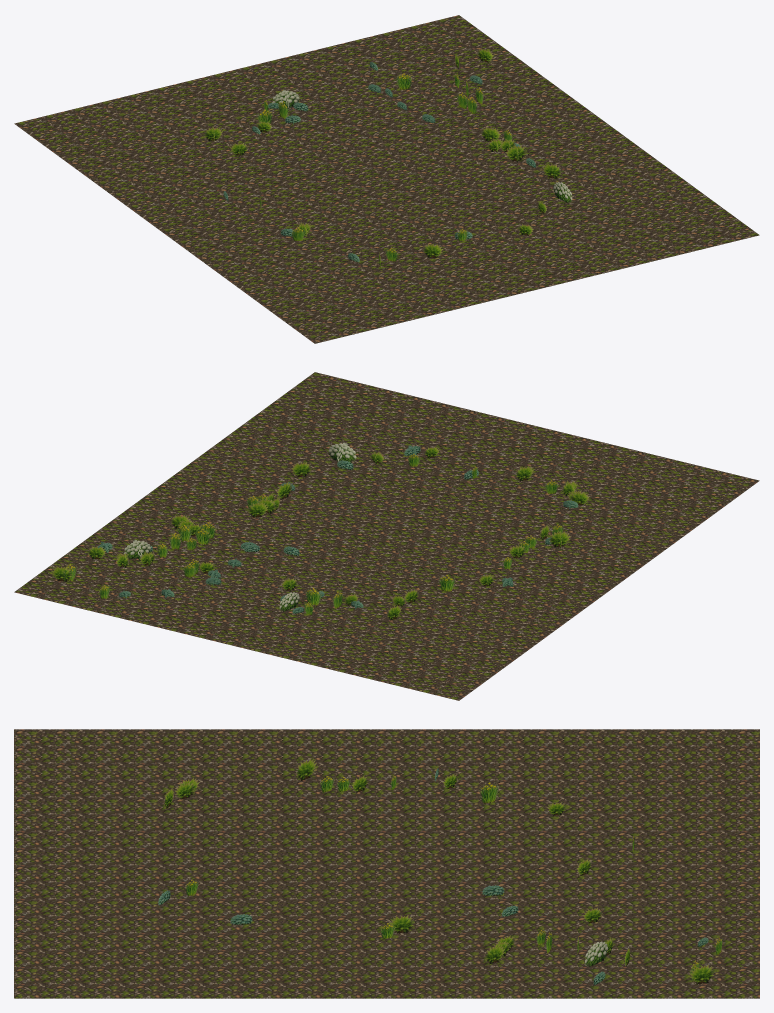
Rendered from groundcover-pond.glb.
3 views of the same model, one above another, from view 1: azimuth 30°, elevation 25°; view 2: azimuth 150°, elevation 25°; view 3: azimuth 270°, elevation 25° (orthographic). The views are drawn at different scales.
Parts seen in each view (by area): view 1: groundcover-soil, groundcover-plants; view 2: groundcover-soil, groundcover-plants; view 3: groundcover-soil, groundcover-plants.
Boxes of the visible parts, x1,y1,x2,y2 form: groundcover-soil: (14, 15, 759, 343); groundcover-plants: (204, 33, 572, 267); groundcover-soil: (14, 372, 759, 700); groundcover-plants: (51, 442, 589, 620); groundcover-soil: (14, 729, 759, 998); groundcover-plants: (158, 758, 722, 985).
Size of the model in its own units: 20.63 by 1.23 by 24.16.
2 materials, 2 textured.
